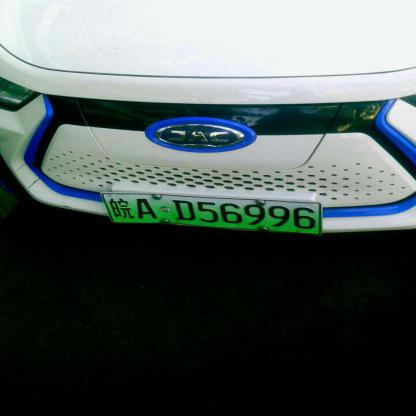lp: (101, 193, 321, 234)
